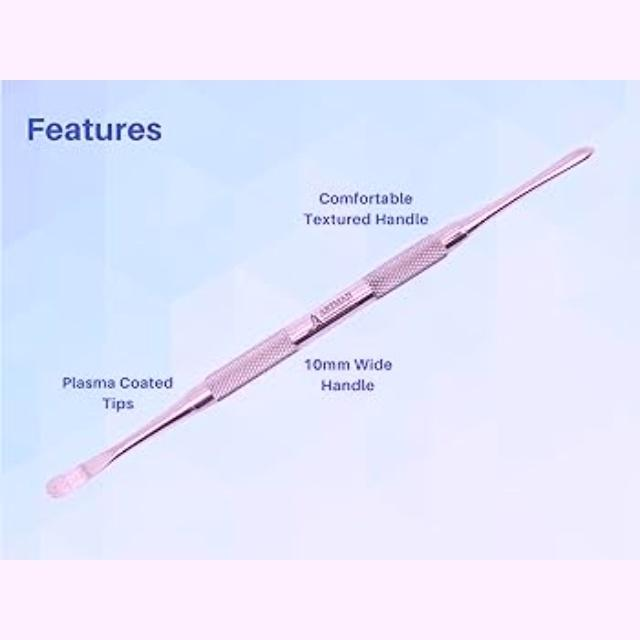elevador: (46, 145, 597, 501)
